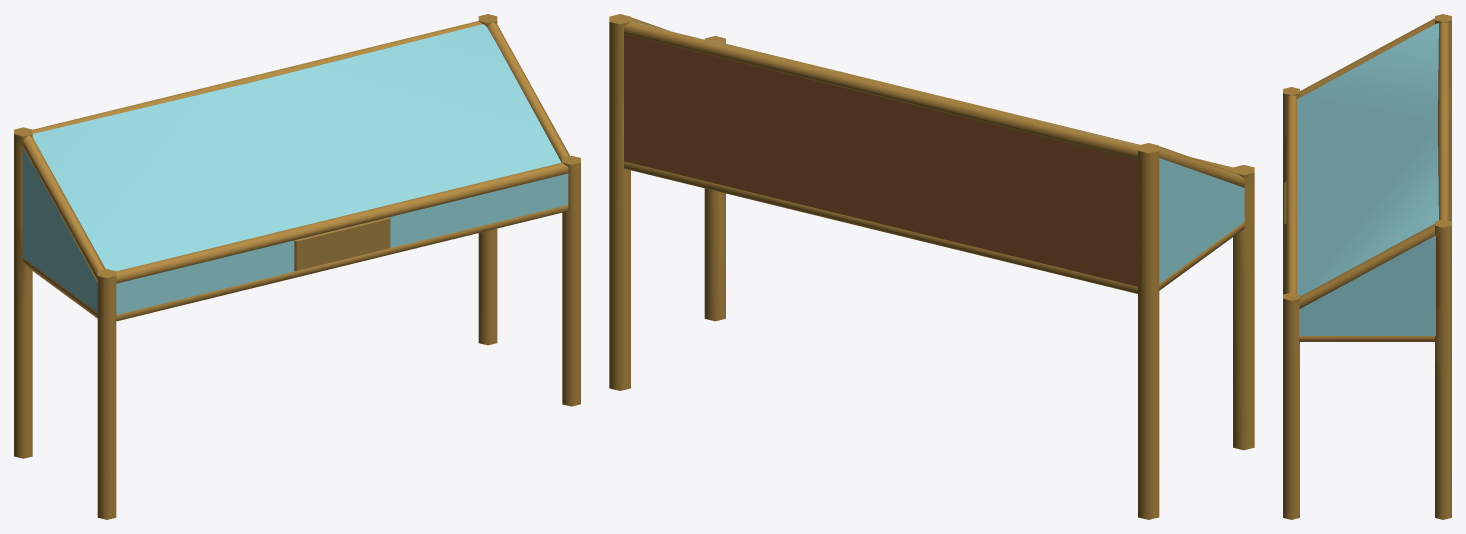
File: 119_127_128_book_glass_cabinet.glb
3 renders of one model, left to right at view 1: azimuth 30°, elevation 25°; view 2: azimuth 150°, elevation 25°; view 3: azimuth 270°, elevation 25°, orthographic. The views are drawn at different scales.
Visible parts, largest first — view 1: top, legs, front, side, nameplate; view 2: back, legs, side; view 3: top, legs, side, nameplate.
Boxes of the visible parts, left/top/right/bottom form: top: left=32, top=24, right=561, bottom=271; legs: left=14, top=14, right=580, bottom=519; front: left=116, top=173, right=568, bottom=314; side: left=22, top=147, right=97, bottom=311; nameplate: left=294, top=217, right=390, bottom=271; back: left=624, top=34, right=1137, bottom=286; legs: left=609, top=14, right=1254, bottom=519; side: left=1159, top=158, right=1244, bottom=283; top: left=1297, top=23, right=1438, bottom=296; legs: left=1283, top=14, right=1451, bottom=519; side: left=1299, top=235, right=1435, bottom=335; nameplate: left=1284, top=181, right=1286, bottom=251.
Bounding box in the file's own units: 2.25 × 1.43 × 0.7503.
